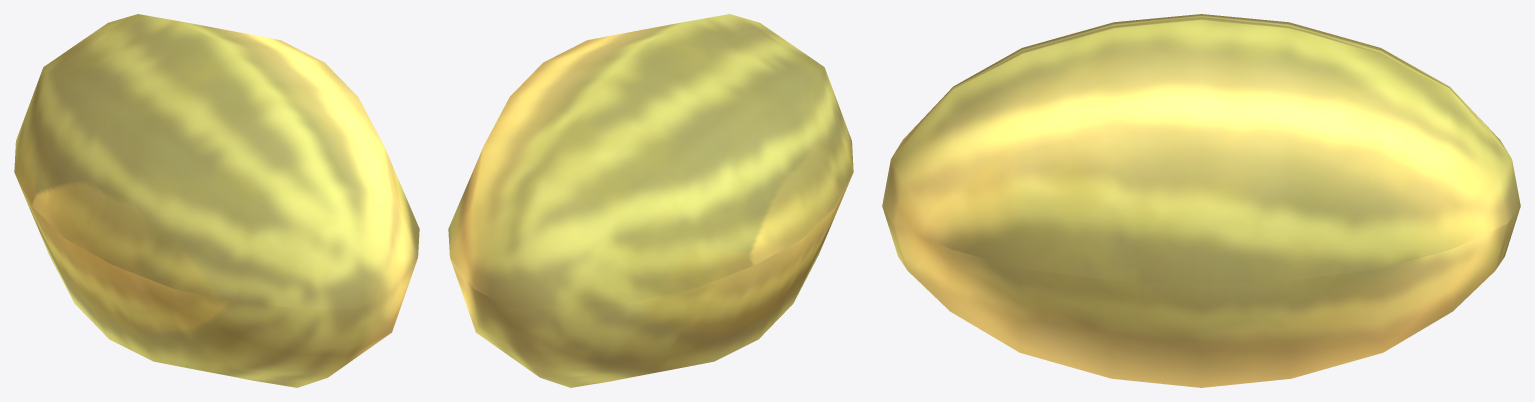
Rendered from SM_Stylized_Food_Watermelon.fbx.
The picture shows the model from 3 angles, left to right: view 1: azimuth 30°, elevation 25°; view 2: azimuth 150°, elevation 25°; view 3: azimuth 270°, elevation 25°; orthographic projection. The views are drawn at different scales.
Visible parts, largest first — view 1: SM_Stylized_Food_Watermelon_LOD0; view 2: SM_Stylized_Food_Watermelon_LOD0; view 3: SM_Stylized_Food_Watermelon_LOD0.
Boxes of the visible parts, <box> form: SM_Stylized_Food_Watermelon_LOD0: <box>14,14,419,387</box>; SM_Stylized_Food_Watermelon_LOD0: <box>448,14,853,387</box>; SM_Stylized_Food_Watermelon_LOD0: <box>882,14,1520,387</box>.
Bounding box in the file's own units: 28.66 × 45.86 × 28.66.
